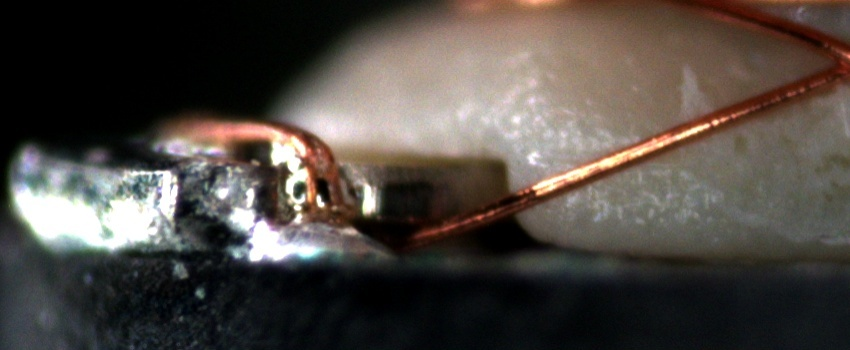CL: (802, 30, 849, 91)
DL: (545, 139, 686, 182)
TE: (168, 109, 355, 214)
